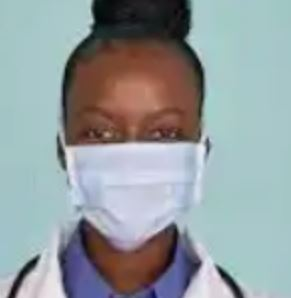with_facemask: (65, 138, 215, 244)
